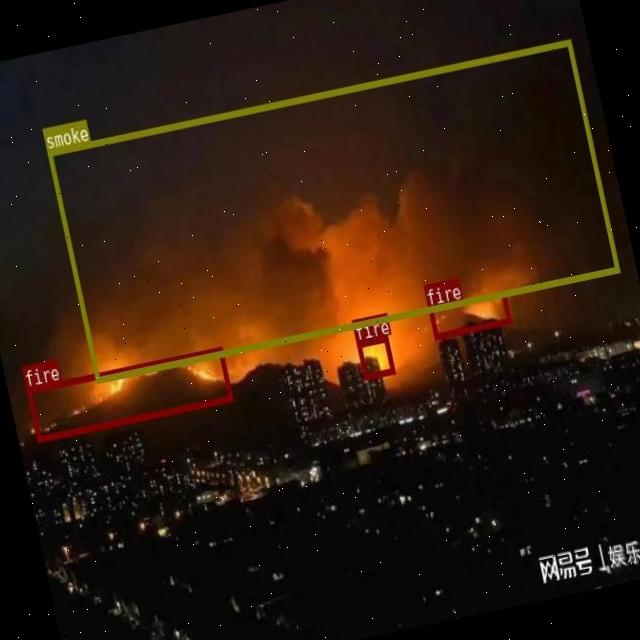fire: (25, 346, 232, 442), (428, 290, 510, 338), (356, 334, 394, 380)
smoke: (46, 39, 618, 382)
